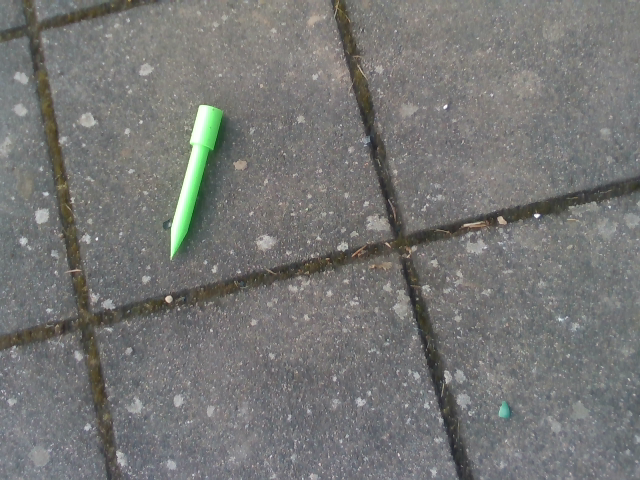Probe: (166, 99, 226, 263)
